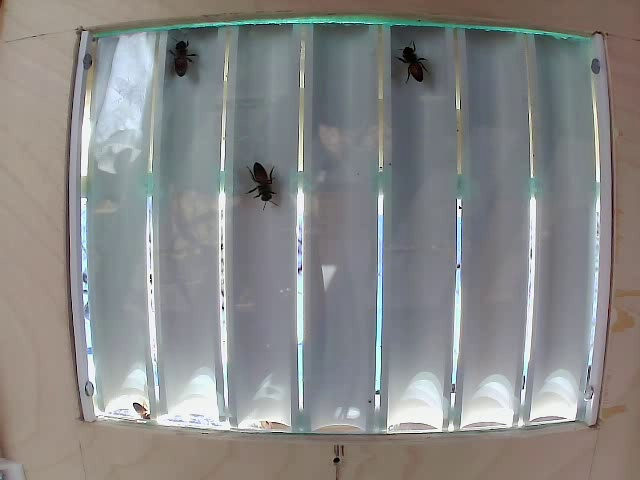bee: (237, 155, 287, 203), (396, 43, 436, 98), (172, 36, 201, 87)
